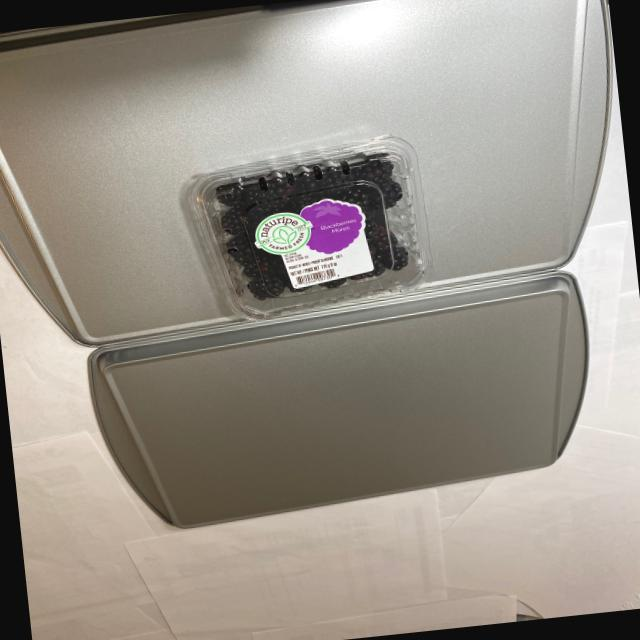blackberries: (188, 150, 424, 324)
